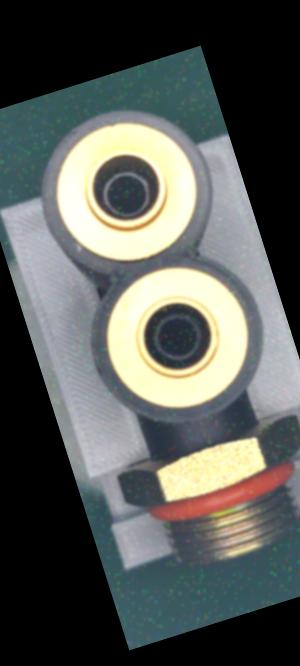white mark: (200, 432, 215, 448)
